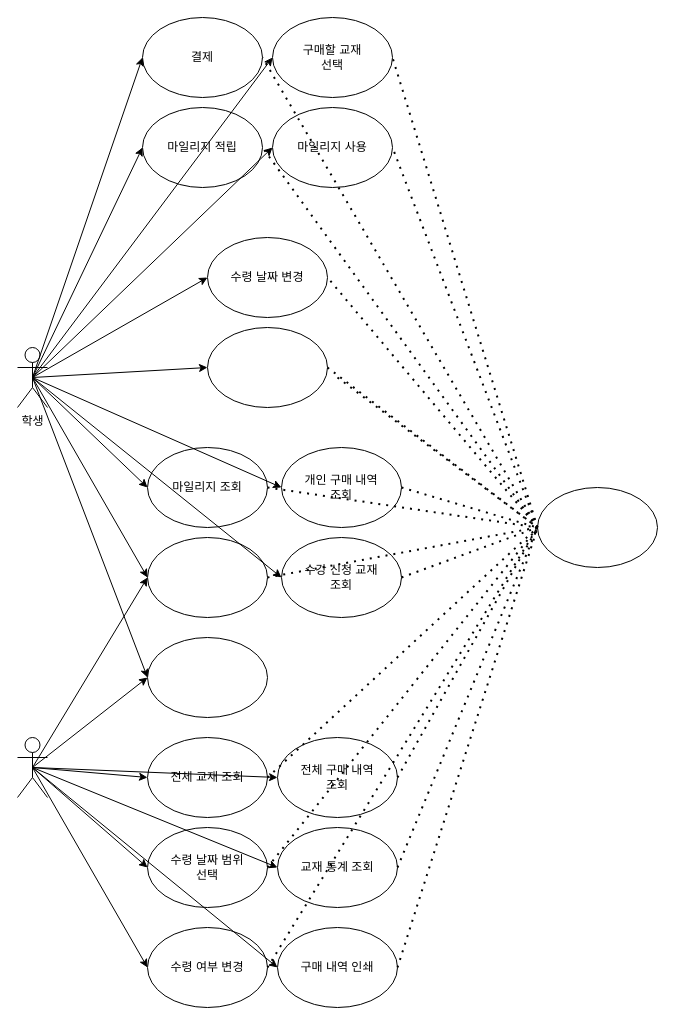
The diagram is 675 pixels wide and 1025 high, and some of its shapes have lost their labels. Each missing label, with the box of its shape:
내 정보 수정: (146, 536, 268, 618)
로그인: (536, 486, 658, 568)
서점: (16, 736, 48, 798)
수령 날짜 선택: (206, 326, 328, 408)
회원가입: (146, 636, 268, 718)
